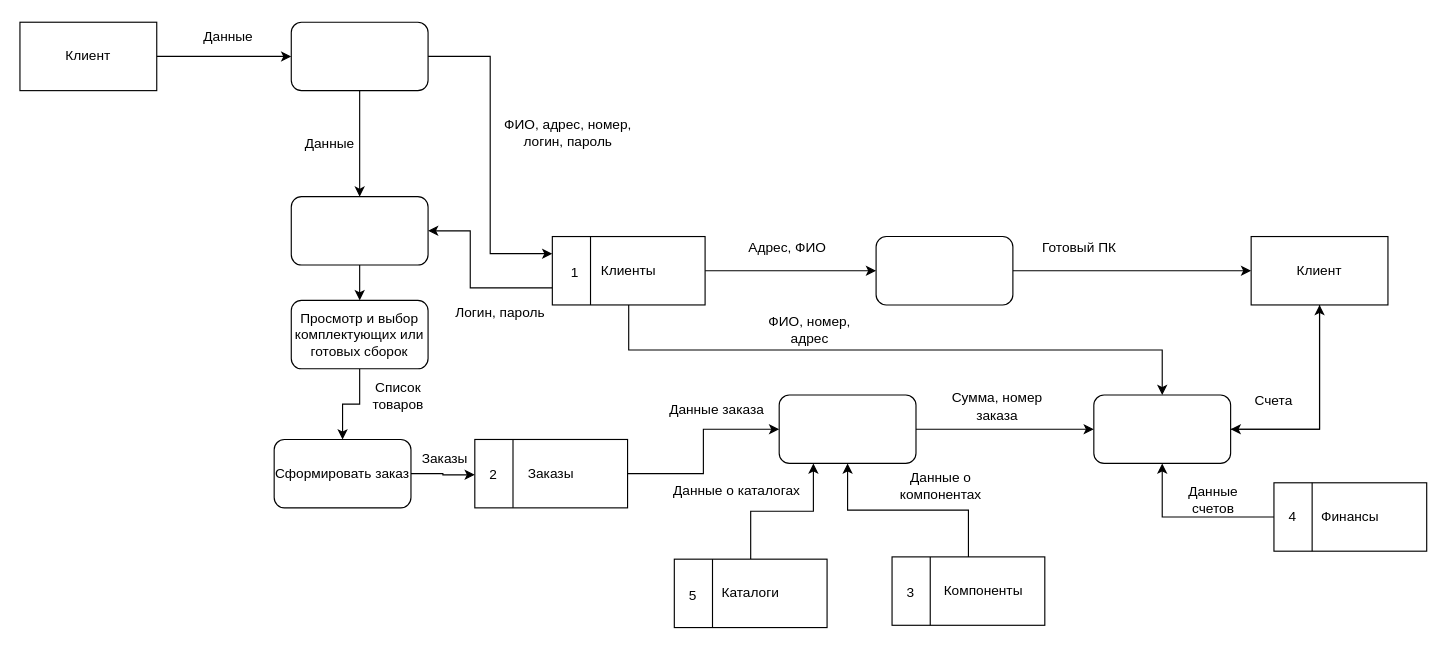
This 1447x649 diagram has some shape labels left out. Here are the shapes that lost their labels. From the top down, the centre of each, then its label:
the point at 359,56: Зарегистрироваться
the point at 359,230: Авторизоваться
the point at 944,270: Доставить готовый ПК
the point at 847,428: Проверить наличие комплектующих или готовых сборок
the point at 1162,428: Проконтролировать оплату
